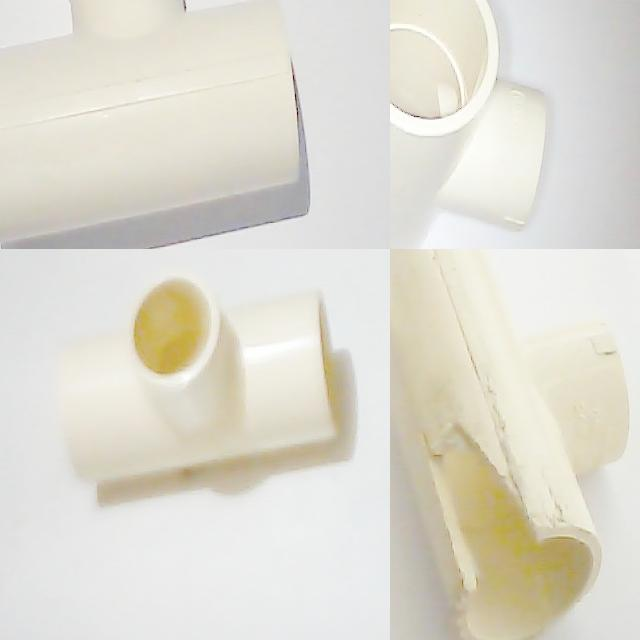Defective: (412, 425, 550, 593), (430, 427, 539, 575)
T Joint: (390, 249, 631, 640), (0, 0, 318, 244), (58, 272, 353, 481), (390, 0, 553, 249)
